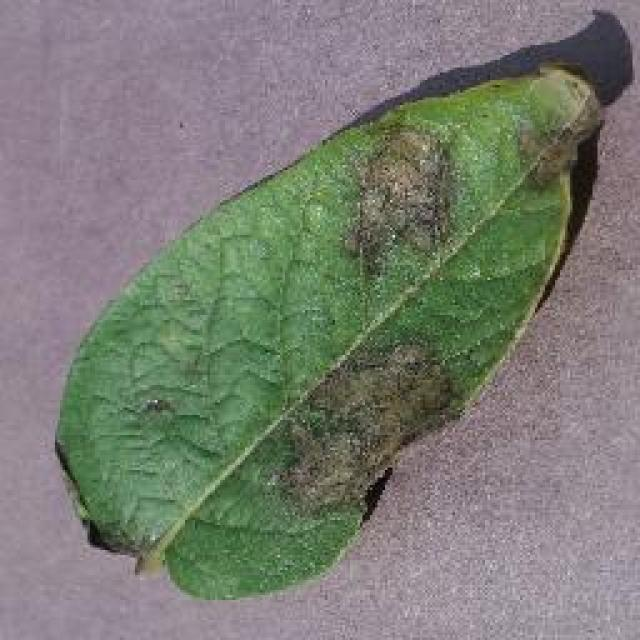Potato: (53, 58, 605, 600)
